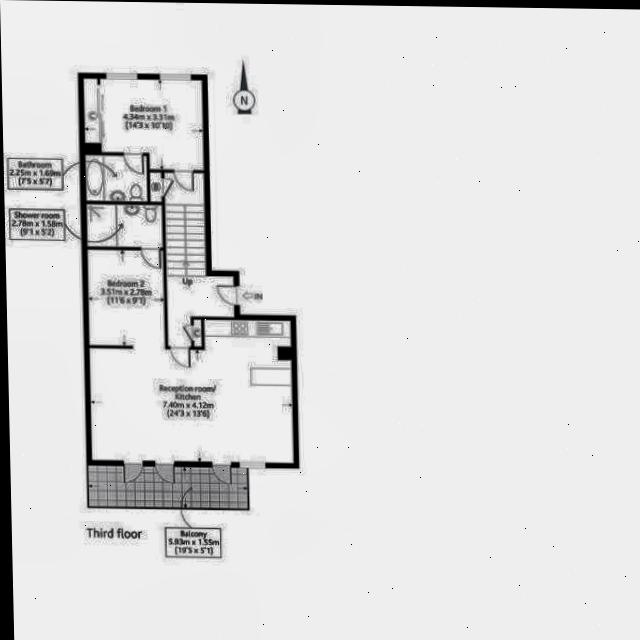room: (87, 245, 294, 467), (164, 170, 235, 348), (81, 78, 206, 170), (86, 204, 164, 248), (85, 154, 148, 203), (150, 172, 162, 203), (193, 319, 202, 348)
